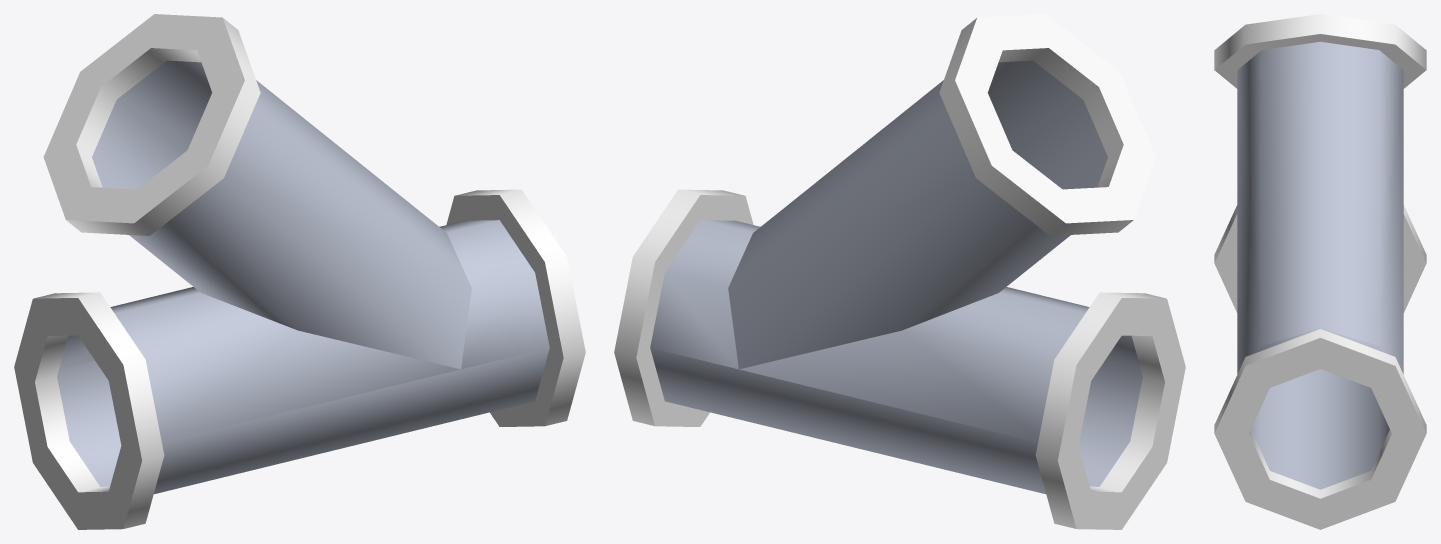
The model's file is pipe-glass-large-junction.glb.
3 views of the same model, side by side, from view 1: azimuth 30°, elevation 25°; view 2: azimuth 150°, elevation 25°; view 3: azimuth 270°, elevation 25° (orthographic). The views are drawn at different scales.
Visible parts, largest first — view 1: pipe-glass-large-junction; view 2: pipe-glass-large-junction; view 3: pipe-glass-large-junction.
Part boxes in pixels (x1=…): pipe-glass-large-junction: x1=14, y1=14, x2=585, y2=529; pipe-glass-large-junction: x1=614, y1=14, x2=1185, y2=529; pipe-glass-large-junction: x1=1214, y1=14, x2=1426, y2=529.
Size of the model in its own units: 2.06 by 2.06 by 1.
